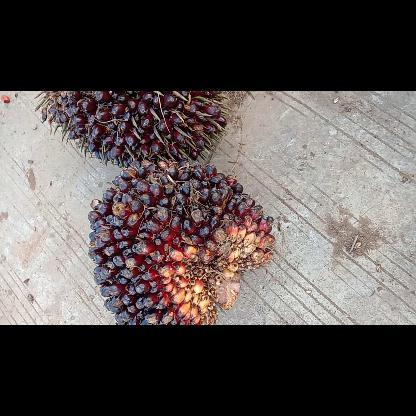TBS mentah: (88, 160, 276, 324), (34, 91, 228, 165)
